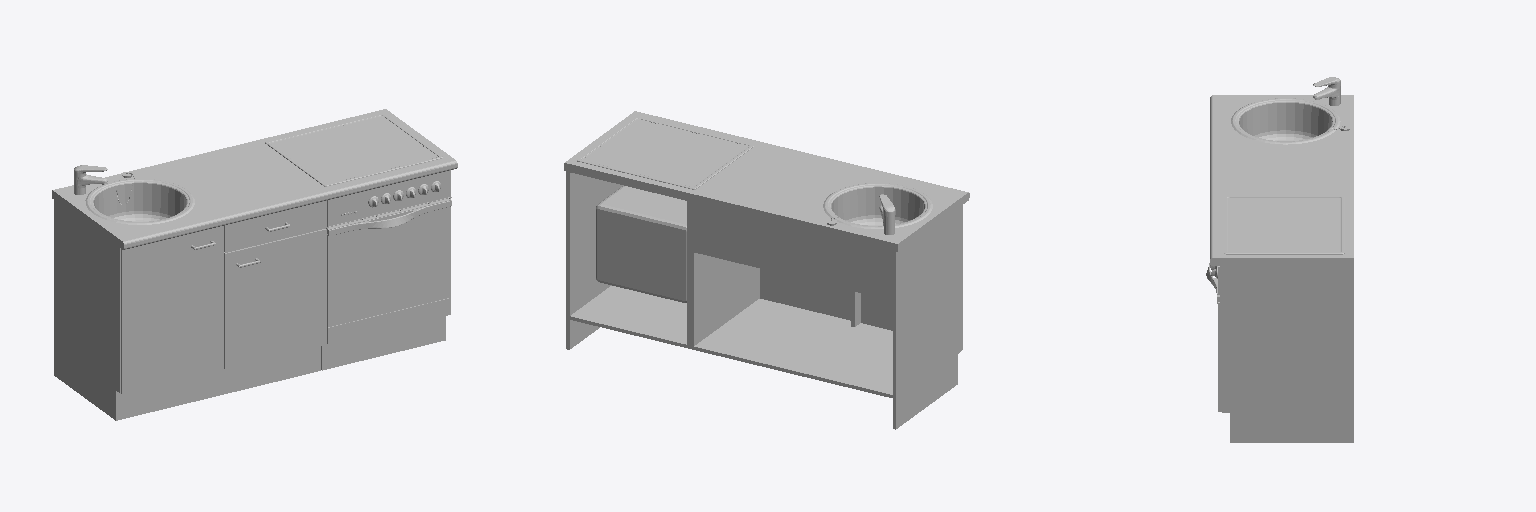
Rendered from kitchen_table.obj.
The picture shows the model from 3 angles: view 1: azimuth 30°, elevation 25°; view 2: azimuth 150°, elevation 25°; view 3: azimuth 270°, elevation 25°; orthographic projection.
Size of the model in its own units: 1.61 by 0.9825 by 0.6161.